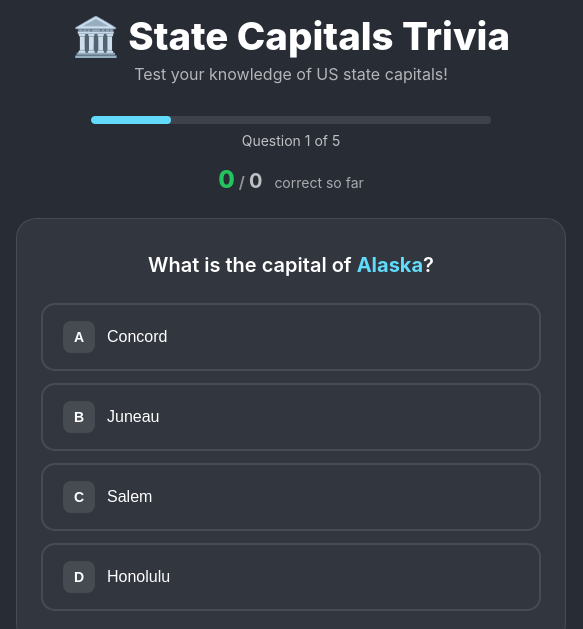
Scenario: StateCapitalsPage – results screen › shows results screen after 5 questions
The image size is (583, 629).
Click the button with aria-label "Answer option:" at (79, 337), box [41, 303, 541, 371]
Wait 1300 ms
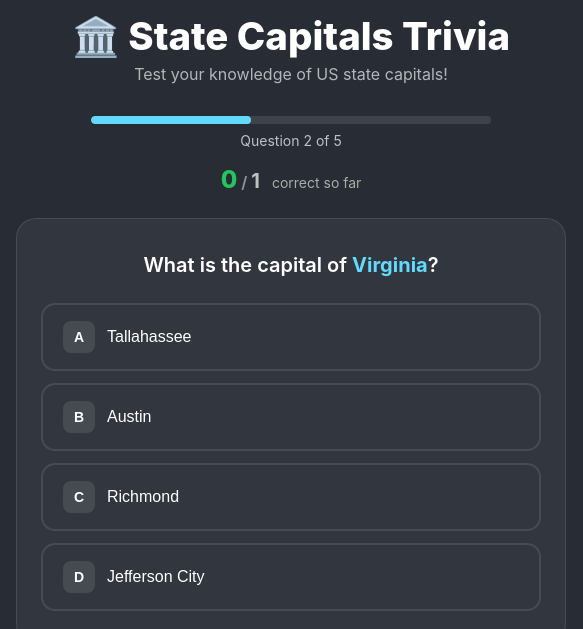
Click the button with aria-label "Answer option:" at (79, 337), box [41, 303, 541, 371]
Wait 1300 ms
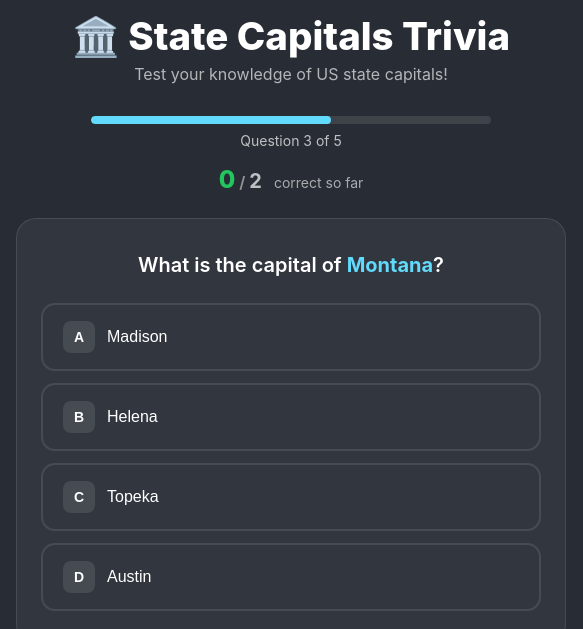
Click the button with aria-label "Answer option:" at (79, 337), box [41, 303, 541, 371]
Wait 1300 ms
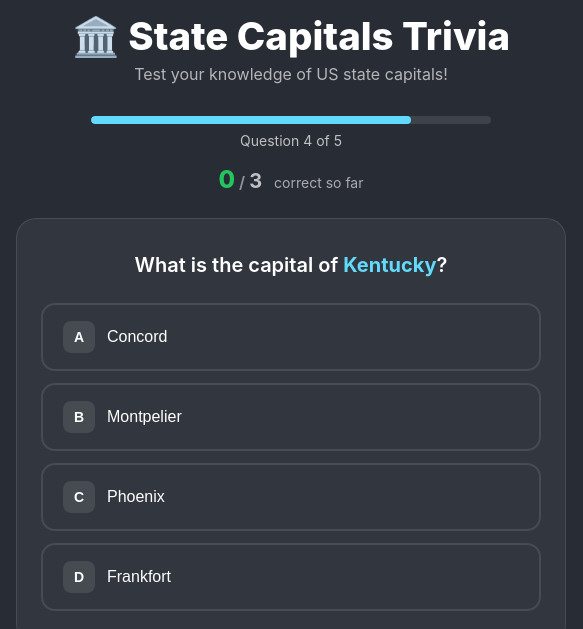
Click the button with aria-label "Answer option:" at (79, 337), box [41, 303, 541, 371]
Wait 1300 ms
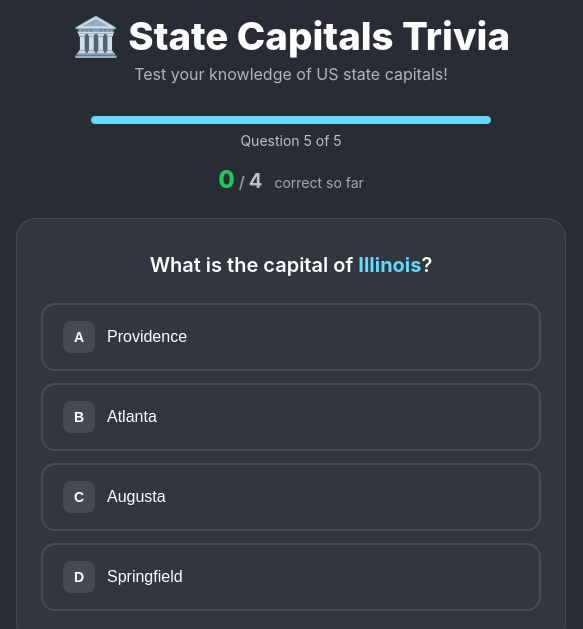
Click the button with aria-label "Answer option:" at (79, 337), box [41, 303, 541, 371]
Wait 1300 ms
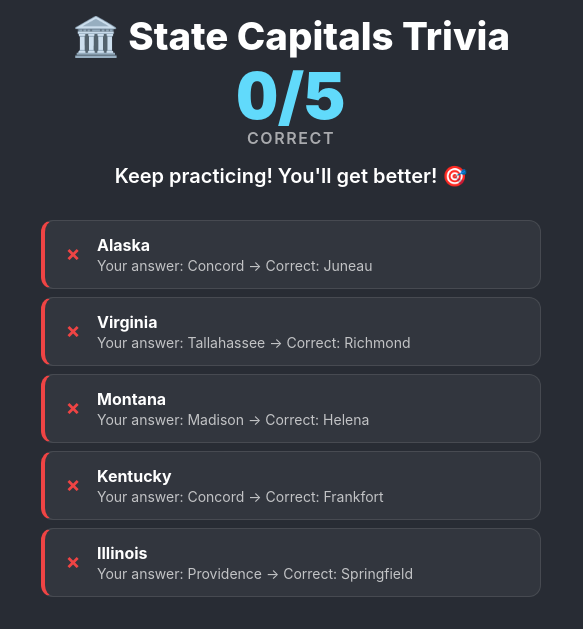
Expected: the text named "final score" is shown, [237, 64, 346, 128]
